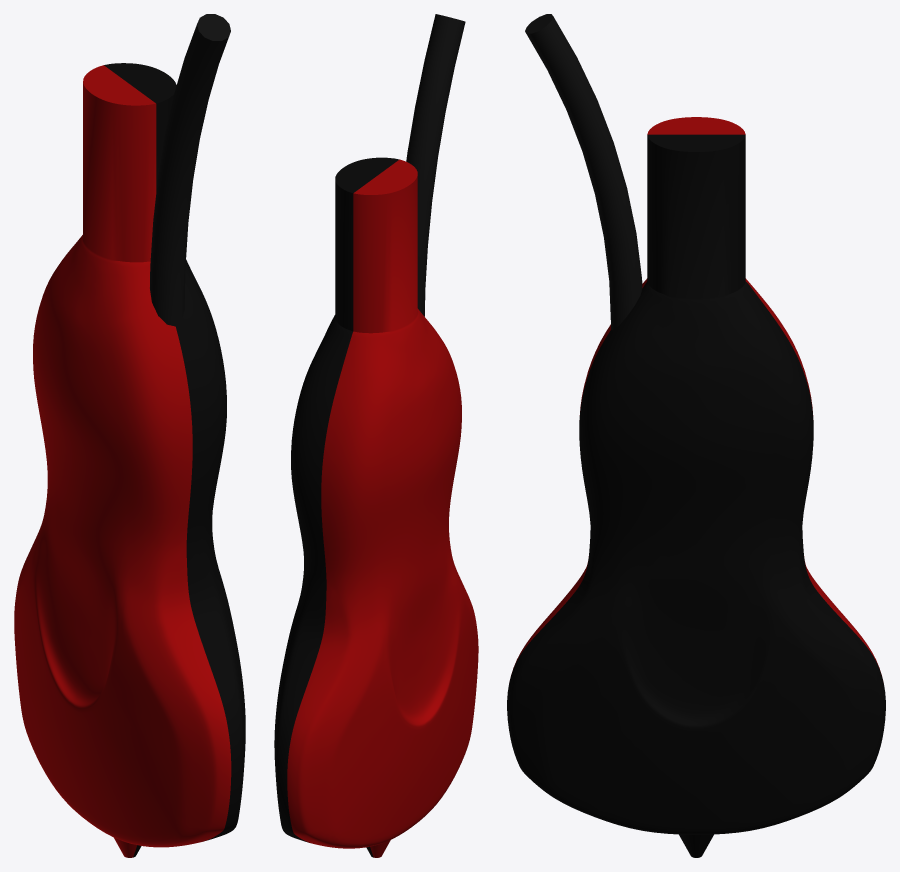
The model's file is transducer_gameready.fbx.
3 renders of one model, left to right at view 1: azimuth 30°, elevation 25°; view 2: azimuth 150°, elevation 25°; view 3: azimuth 270°, elevation 25°, orthographic. The views are drawn at different scales.
Visible parts, largest first — view 1: transducer, cable; view 2: transducer, cable; view 3: transducer, cable.
Boxes of the visible parts, x1,y1,x2,y2 form: transducer: (14,63,245,857); cable: (150,14,230,326); transducer: (274,157,478,857); cable: (406,14,465,316); transducer: (507,117,885,857); cable: (525,14,642,330).
Bounding box in the file's own units: 0.0283 × 0.1798 × 0.0736.
